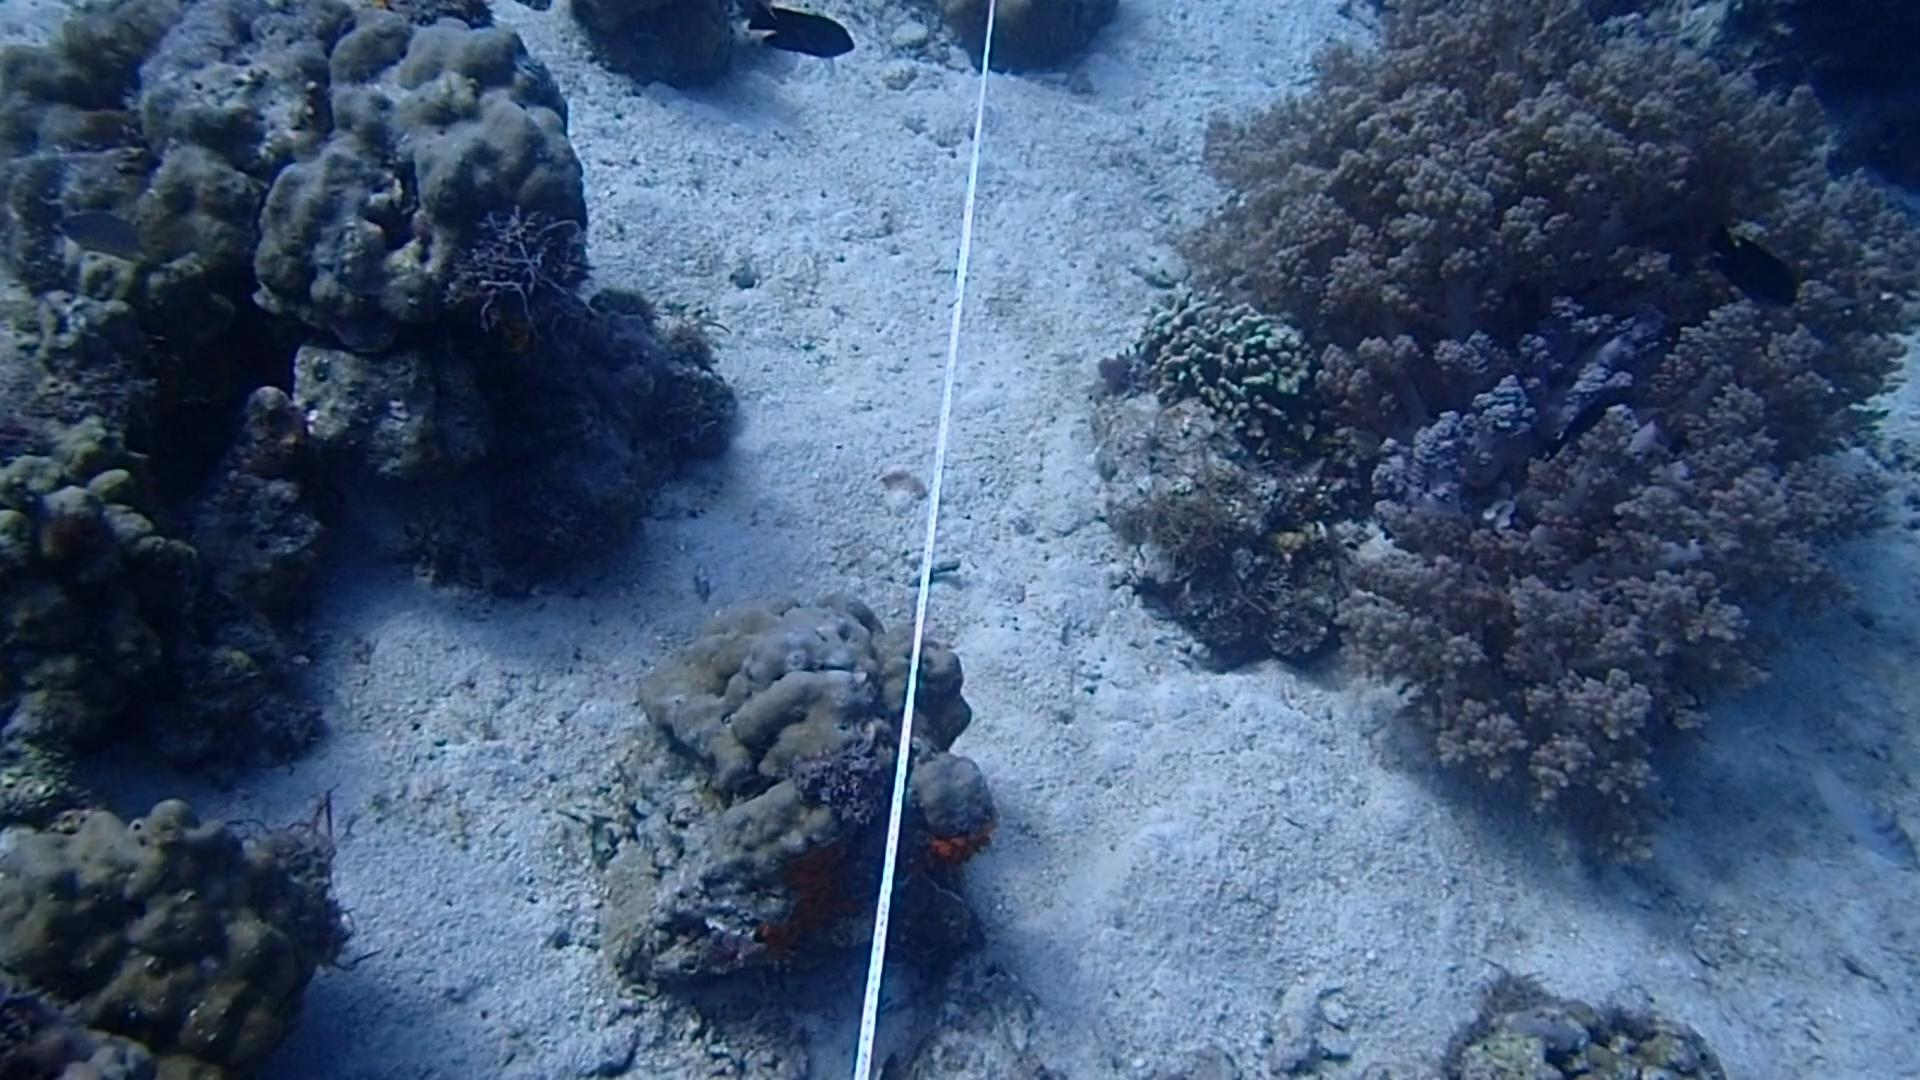Dark Fish: (1701, 222, 1811, 316), (741, 0, 858, 65), (1539, 384, 1613, 458)
Light Fish w Back Stripes: (1787, 741, 1915, 868)
